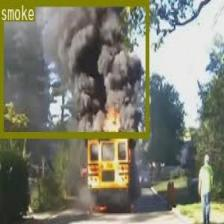smoke: (0, 0, 149, 136)
